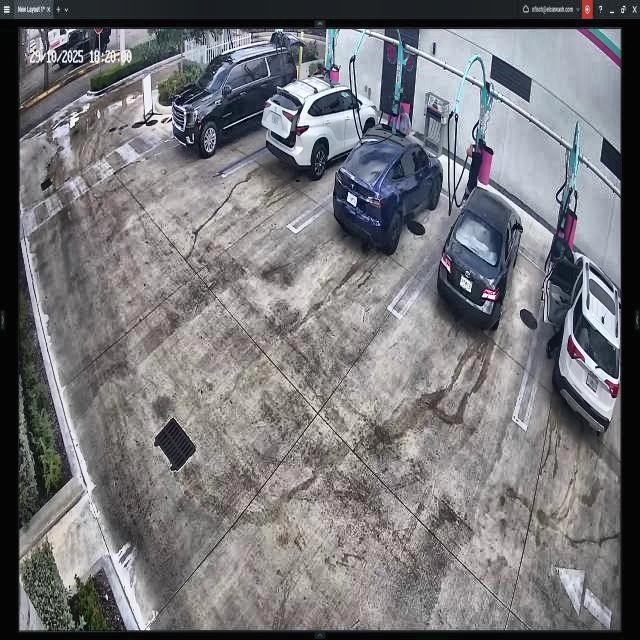Car: (335, 120, 443, 251), (439, 187, 523, 329), (263, 72, 378, 173)
